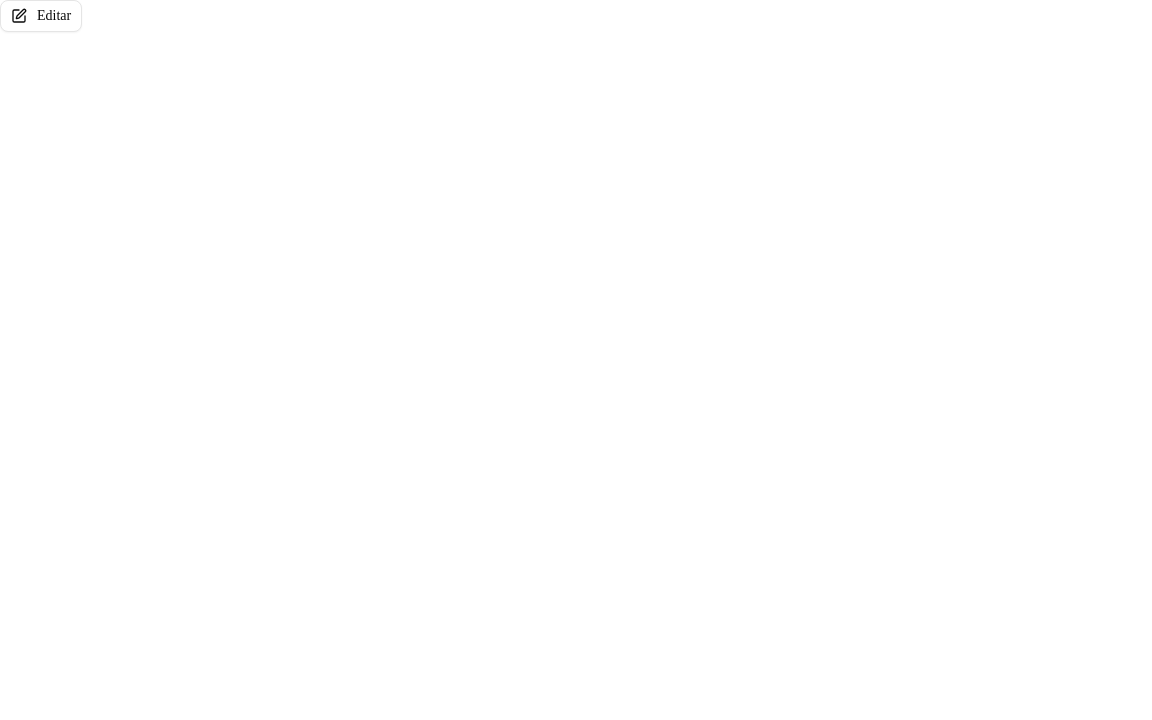
Scenario: EditCollectionModal › is closed until Edit is clicked, then shows the prefilled form
Click the button "Editar" at x=41, y=16, box [0,0,82,32]
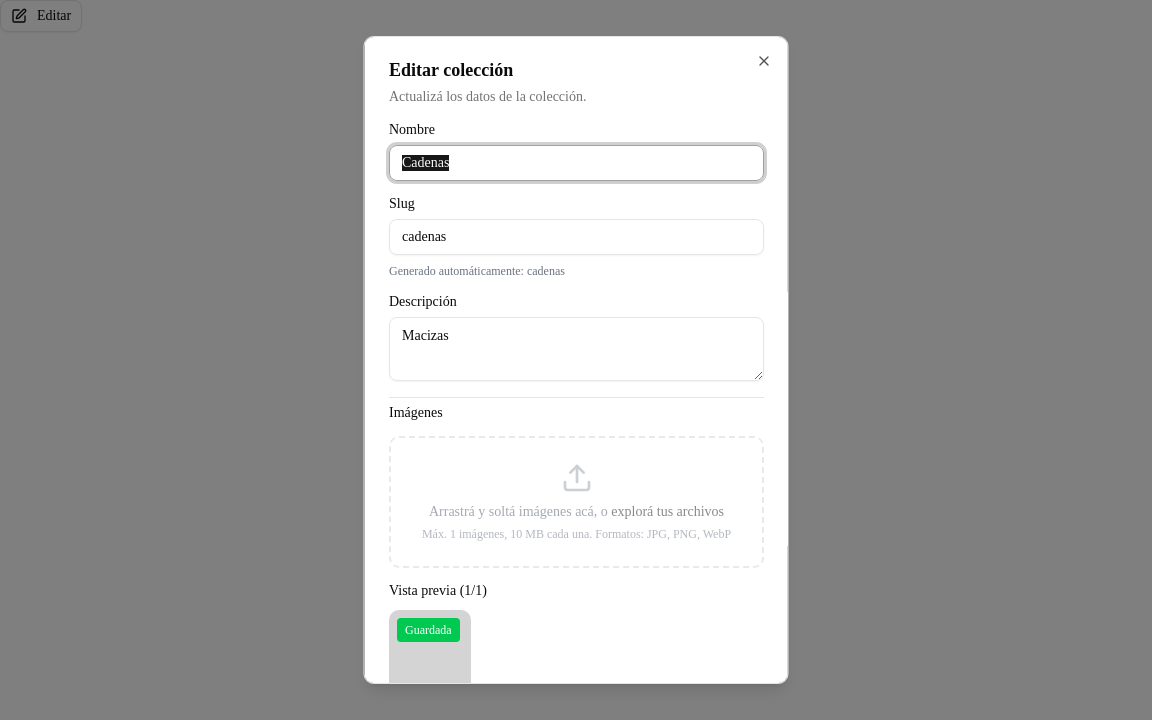
Expected: the dialog "Editar colección" is shown, [364,36,788,684]
Expected: the field labelled "Nombre" holds "Cadenas", [388,145,764,181]
Expected: the text box labelled "Descripción" holds "Macizas", [388,317,764,381]
